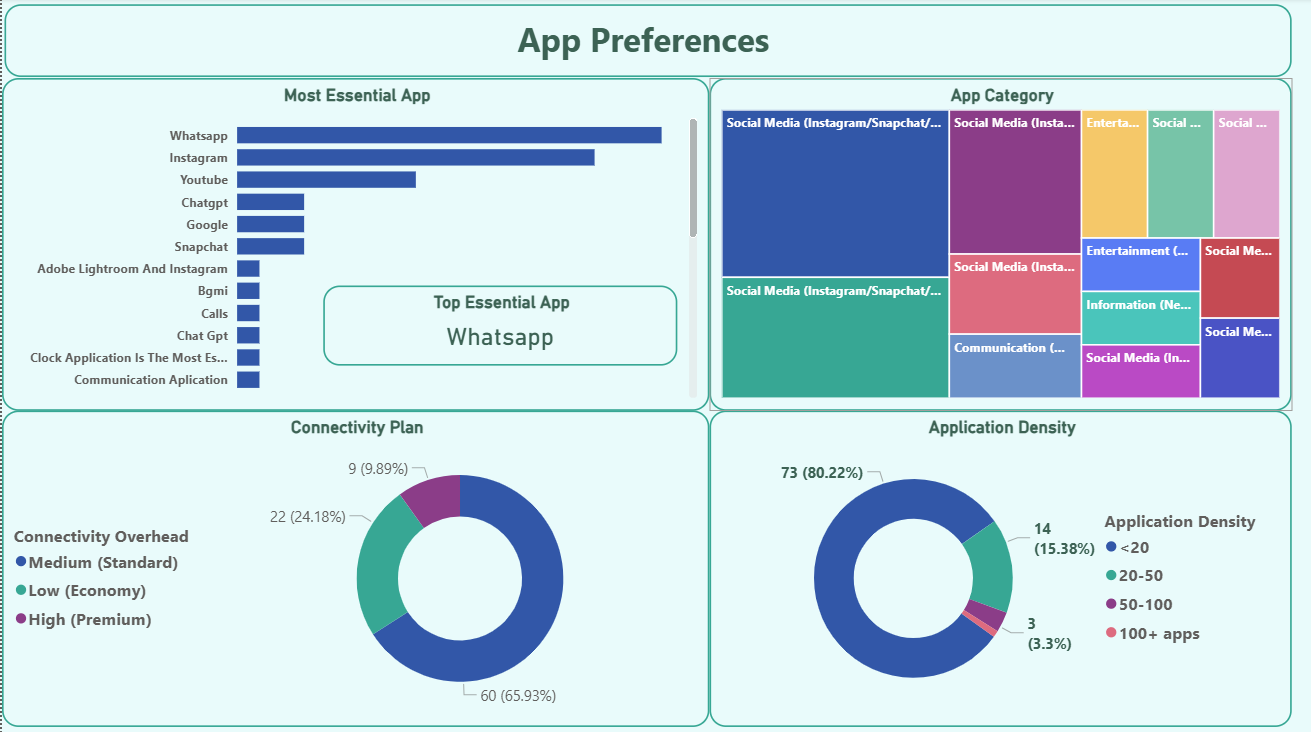

What the dashboard file says about the page in this screenshot:
{"tool":"powerbi","page":{"name":"App Prefernces","canvas":[1280,720],"ordinal":2},"visuals":[{"type":"clusteredBarChart","title":"Most Essential App","fields":{"Category":["Form responses 1.Most Essential App"],"Y":["Form responses 1.Total Responses"]},"box":[0,78.3,692.1,325.3],"z":0},{"type":"donutChart","title":"Connectivity Plan","fields":{"Category":["Form responses 1.Estimated Monthly Connectivity Overhead  "],"Y":["Form responses 1.Total Responses"]},"box":[0,403.5,692.1,309.4],"z":1000},{"type":"donutChart","title":"Application Density","fields":{"Category":["Form responses 1.Estimated Application Density"],"Y":["Form responses 1.Total Responses"]},"box":[692.1,403.5,569.8,309.4],"z":2000},{"type":"treemap","title":"App Category ","fields":{"Group":["Form responses 1.App Categories Used"],"Values":["Form responses 1.Total Responses"]},"box":[692.1,78.3,569.8,325.3],"z":3000},{"type":"textbox","box":[2.4,6.1,1259.5,70.9],"z":4000},{"type":"card","title":"Top Essential App","fields":{"Values":["Form responses 1.Top App Insight"]},"box":[314.3,281.3,346.1,78.3],"z":5000}]}

Visuals, with their boxes in screenshot pixels (x1, y1, x2, y2), scaled from the page's 1280x720 canvas onto the 1311x732 screenshot:
"Most Essential App" clusteredBarChart: select_region(0, 80, 709, 410)
"Connectivity Plan" donutChart: select_region(0, 410, 709, 725)
"Application Density" donutChart: select_region(709, 410, 1292, 725)
"App Category " treemap: select_region(709, 80, 1292, 410)
textbox: select_region(2, 6, 1292, 78)
"Top Essential App" card: select_region(322, 286, 676, 366)
